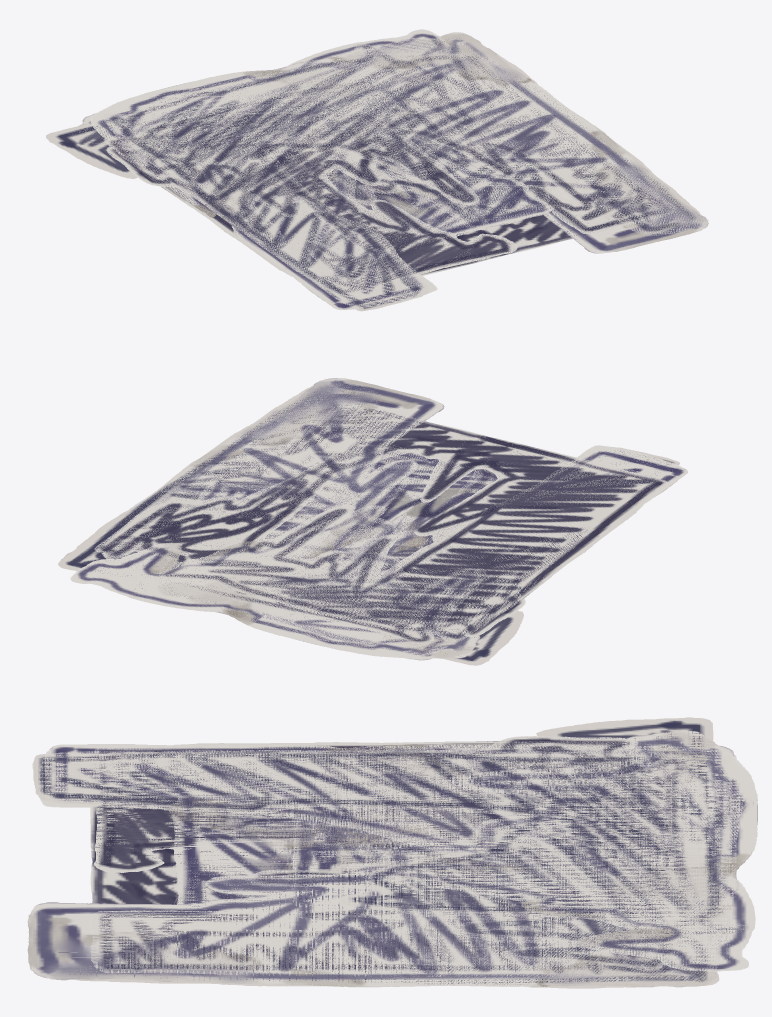
Rendered from Cave.fbx.
3 renders of one model, top to bottom at view 1: azimuth 30°, elevation 25°; view 2: azimuth 150°, elevation 25°; view 3: azimuth 270°, elevation 25°, orthographic. The views are drawn at different scales.
Parts seen in each view (by area): view 1: Plane.057, Plane.054, Plane.052, Plane.053, Plane.055, Plane.056, Plane.062, Plane.061, Plane.058; view 2: Plane.056, Plane.053, Plane.052, Plane.057, Plane.055, Plane.061, Plane.062, Plane.063, Plane.054; view 3: Plane.053, Plane.052, Plane.054, Plane.057, Plane.055, Plane.062, Plane.056, Plane.060, Plane.063, Plane.061.
Boxes of the visible parts, x1,y1,x2,y2 form: Plane.057: (106, 46, 676, 295); Plane.054: (103, 44, 500, 311); Plane.052: (90, 29, 453, 310); Plane.053: (73, 34, 708, 253); Plane.055: (46, 32, 708, 235); Plane.056: (103, 53, 597, 294); Plane.062: (286, 122, 554, 249); Plane.061: (340, 149, 549, 251); Plane.058: (319, 114, 499, 230); Plane.056: (94, 403, 667, 642); Plane.053: (60, 378, 485, 660); Plane.052: (70, 445, 687, 658); Plane.057: (171, 398, 655, 643); Plane.055: (58, 380, 523, 665); Plane.061: (311, 443, 542, 553); Plane.062: (283, 454, 491, 586); Plane.063: (195, 477, 404, 521); Plane.054: (102, 447, 679, 604); Plane.053: (27, 730, 746, 987); Plane.052: (37, 743, 757, 971); Plane.054: (32, 750, 747, 970); Plane.057: (87, 736, 694, 974); Plane.055: (49, 717, 753, 988); Plane.062: (168, 794, 491, 915); Plane.056: (90, 741, 651, 924); Plane.060: (291, 808, 443, 907); Plane.063: (313, 746, 451, 922); Plane.061: (172, 811, 591, 903).
Size of the model in its own units: 86.86 by 1.52e-05 by 93.46.
